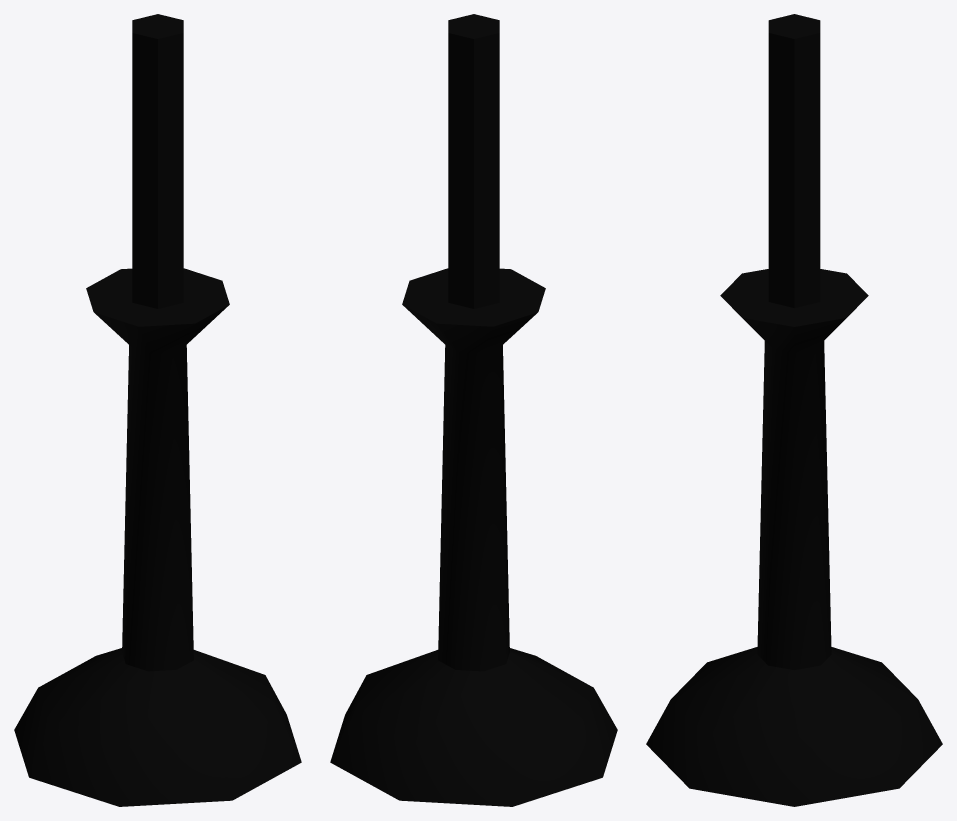
The model's file is SM_candlestick.fbx.
The picture shows the model from 3 angles, left to right: view 1: azimuth 30°, elevation 25°; view 2: azimuth 150°, elevation 25°; view 3: azimuth 270°, elevation 25°; orthographic projection.
Visible parts, largest first — view 1: candlestick; view 2: candlestick; view 3: candlestick.
Part boxes in pixels (<box>): candlestick: <box>14,14,301,806</box>; candlestick: <box>330,14,617,806</box>; candlestick: <box>646,14,942,806</box>.
Size of the model in its own units: 0.12 by 0.32 by 0.12.
